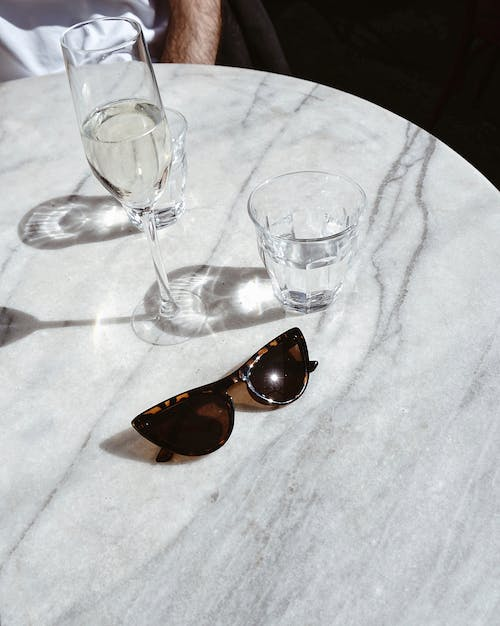alcohol: (58, 15, 209, 348)
